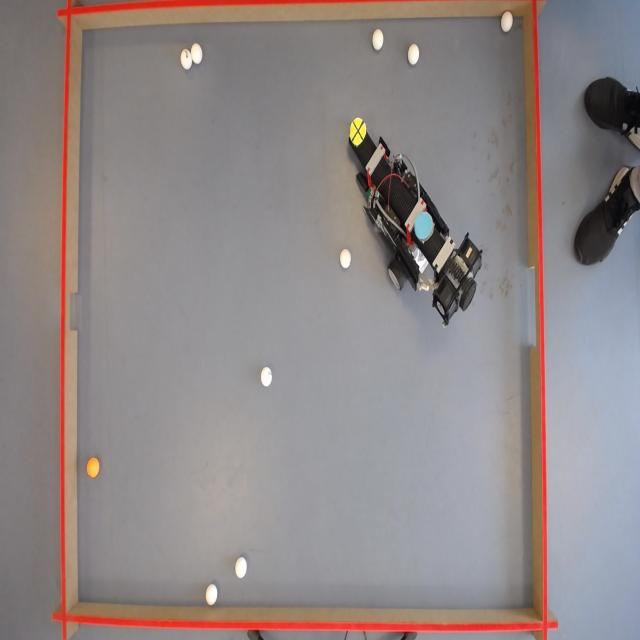orange: (88, 458, 103, 478)
robot: (345, 120, 489, 329)
robot-front: (350, 118, 368, 148)
robot-rear: (414, 209, 434, 243)
white: (205, 585, 219, 608), (235, 556, 248, 580), (408, 45, 422, 67), (188, 43, 202, 64), (500, 10, 513, 32), (373, 30, 386, 51), (180, 49, 193, 70), (340, 248, 353, 268), (262, 365, 274, 386)
